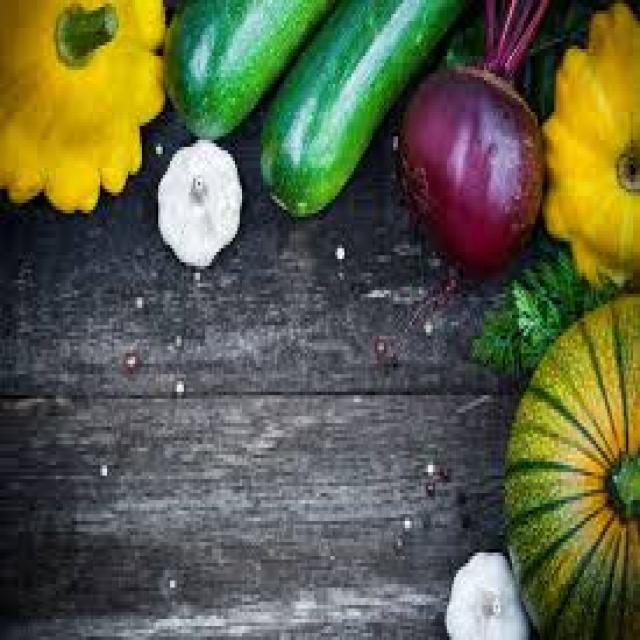organic waste: (256, 0, 484, 217), (502, 294, 638, 636), (391, 3, 556, 270), (0, 0, 161, 210), (535, 7, 638, 287), (162, 0, 344, 136), (472, 248, 619, 371), (153, 136, 240, 262), (444, 542, 528, 637)
